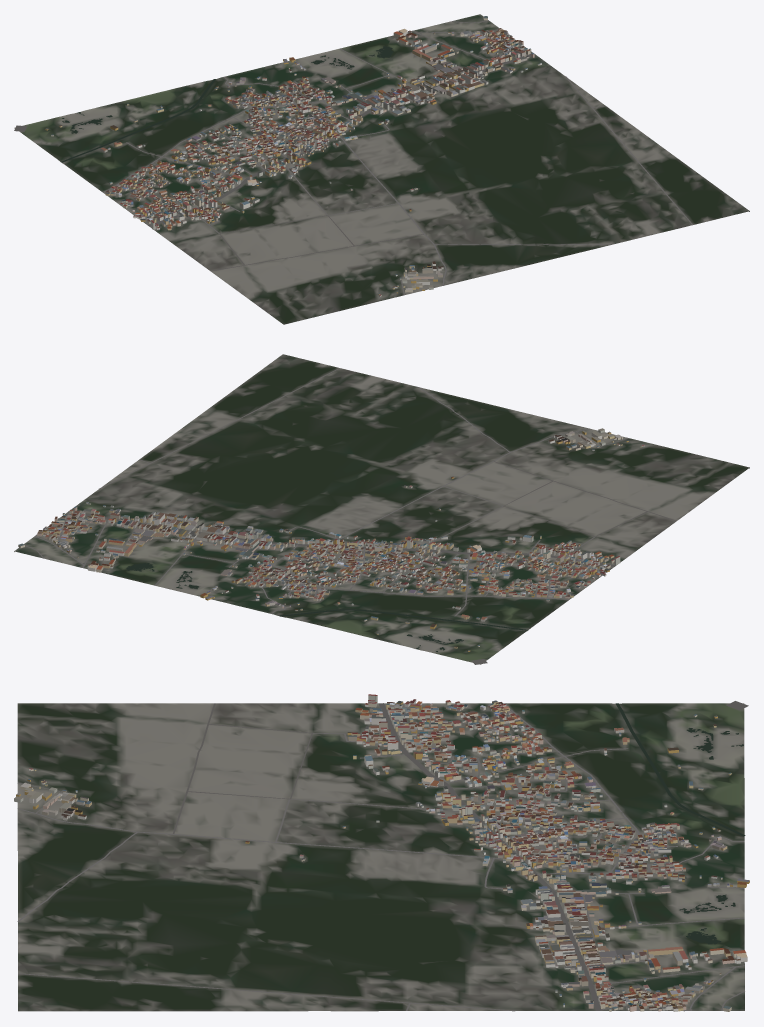
The picture shows the model from 3 angles, top to bottom: view 1: azimuth 30°, elevation 25°; view 2: azimuth 150°, elevation 25°; view 3: azimuth 270°, elevation 25°; orthographic projection. The views are drawn at different scales.
Parts seen in each view (by area): view 1: ground, buildings, roads, water; view 2: ground, buildings, roads, water; view 3: ground, buildings, roads, water.
Boxes of the visible parts, x1,y1,x2,y2 form: ground: [14, 14, 749, 324]; buildings: [45, 16, 541, 296]; roads: [14, 20, 693, 295]; water: [61, 46, 393, 162]; ground: [14, 354, 749, 664]; buildings: [18, 428, 644, 651]; roads: [25, 368, 676, 664]; water: [126, 563, 527, 651]; ground: [17, 703, 744, 1011]; buildings: [14, 694, 749, 1011]; roads: [17, 701, 748, 1011]; water: [615, 703, 745, 944].
Bounding box in the file's own units: 1417 × 28.58 × 1420.
